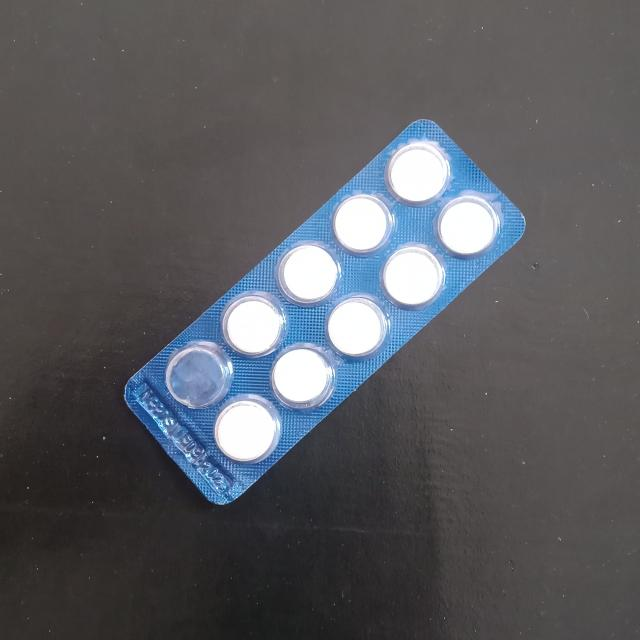defect: (166, 343, 229, 409)
